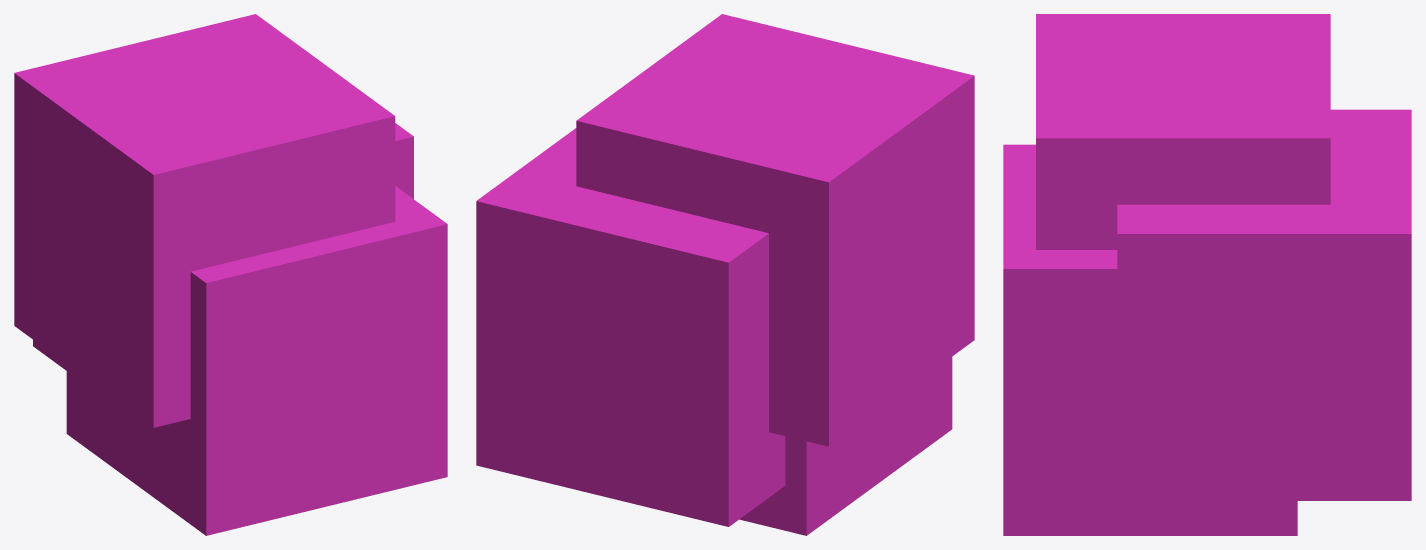
File: cubes.glb
3 views of the same model, side by side, from view 1: azimuth 30°, elevation 25°; view 2: azimuth 150°, elevation 25°; view 3: azimuth 270°, elevation 25° (orthographic). The views are drawn at different scales.
Visible parts, largest first — view 1: Cube.002, Cube, Cube.001; view 2: Cube.002, Cube.001, Cube; view 3: Cube.001, Cube.002, Cube.
Part boxes in pixels (left/top/right/bottom): Cube.002: left=14, top=14, right=395, bottom=427; Cube: left=66, top=186, right=447, bottom=535; Cube.001: left=33, top=123, right=413, bottom=370; Cube.002: left=576, top=14, right=974, bottom=446; Cube.001: left=476, top=128, right=785, bottom=526; Cube: left=739, top=357, right=952, bottom=535; Cube.001: left=1117, top=109, right=1411, bottom=500; Cube.002: left=1036, top=14, right=1330, bottom=249; Cube: left=1003, top=144, right=1297, bottom=535.
Size of the model in its own units: 2.47 by 2.84 by 2.77.
